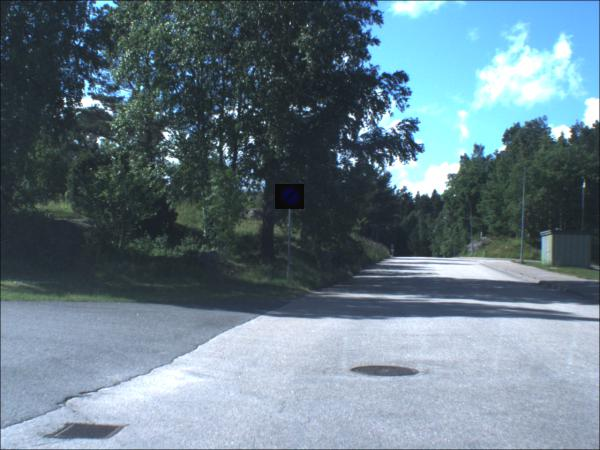NO_PARKING: (275, 185, 305, 211)
